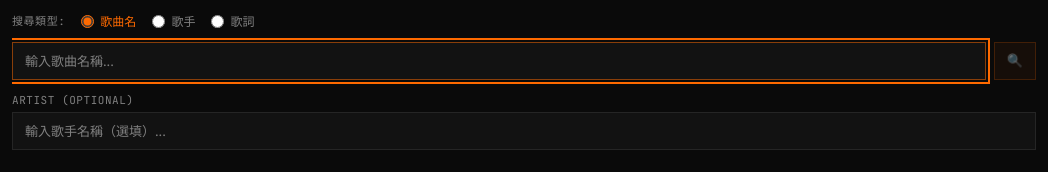
Test: LyricsSearchInput › changes placeholder when search type changes to artist
Click the radio button labelled "歌手" at (159,21), box [152,14,165,28]
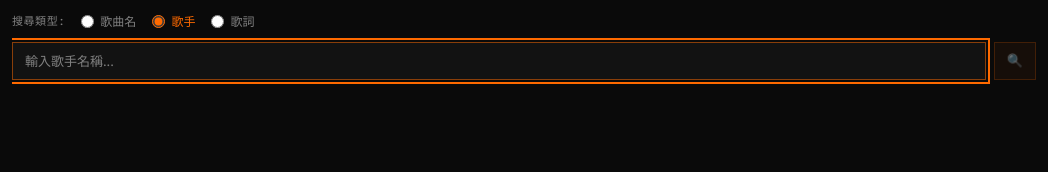
expect the field with placeholder "輸入歌手名稱..." is shown: met, box [12,42,986,80]
